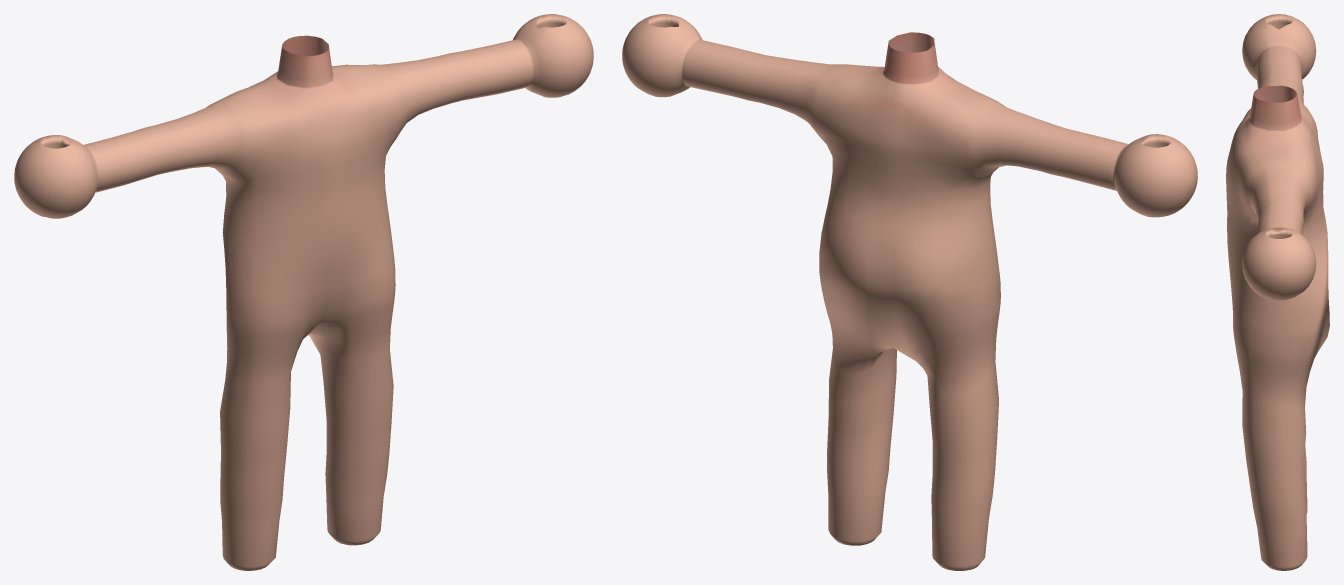
Rendered from Body.glb.
3 renders of one model, left to right at view 1: azimuth 30°, elevation 25°; view 2: azimuth 150°, elevation 25°; view 3: azimuth 270°, elevation 25°, orthographic. The views are drawn at different scales.
Visible parts, largest first — view 1: Body1; view 2: Body1; view 3: Body1.
Part boxes in pixels (x1=…): Body1: x1=14, y1=14, x2=593, y2=570; Body1: x1=622, y1=14, x2=1197, y2=570; Body1: x1=1226, y1=14, x2=1329, y2=570.
Bounding box in the file's own units: 0.0152 × 0.013 × 0.00273.
Materials: 1 (1 with a texture image).
